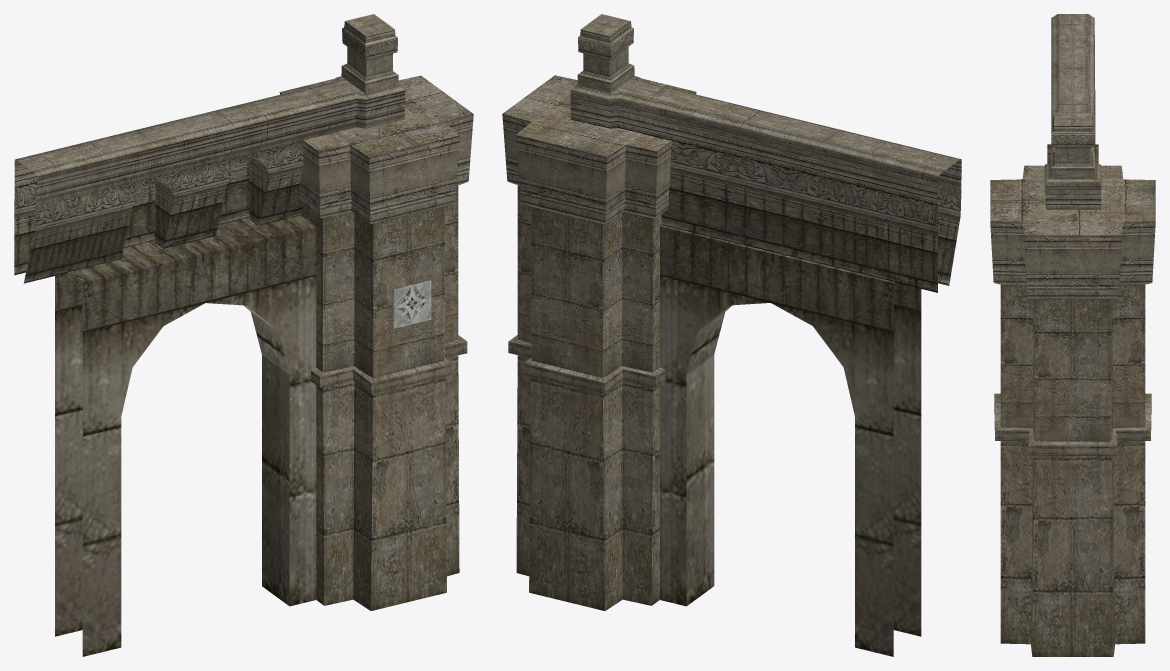
File: SM_Plains_yuanjing01.FBX
The picture shows the model from 3 angles, left to right: view 1: azimuth 30°, elevation 25°; view 2: azimuth 150°, elevation 25°; view 3: azimuth 270°, elevation 25°; orthographic projection. The views are drawn at different scales.
Visible parts, largest first — view 1: SM_Plains_yuanjing01; view 2: SM_Plains_yuanjing01; view 3: SM_Plains_yuanjing01.
Boxes of the visible parts, x1,y1,x2,y2 form: SM_Plains_yuanjing01: (14,14,473,656); SM_Plains_yuanjing01: (502,14,961,656); SM_Plains_yuanjing01: (990,14,1155,656).
Bounding box in the file's own units: 251 × 311 × 91.87.
